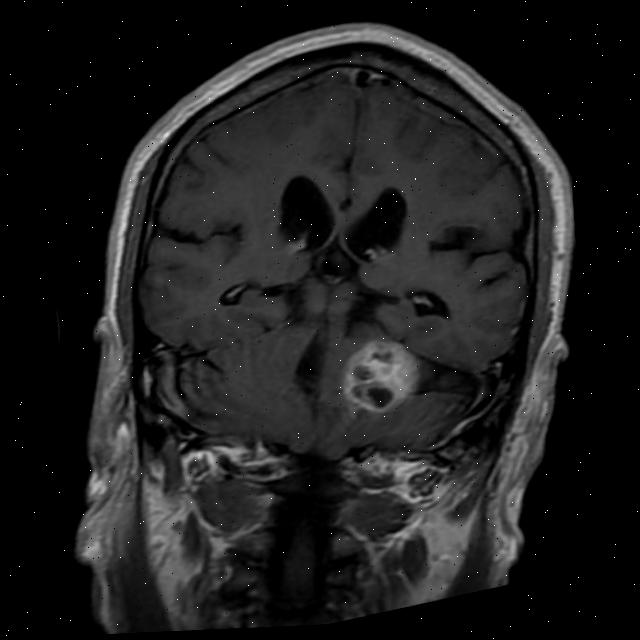Meningioma: (334, 330, 429, 421)
